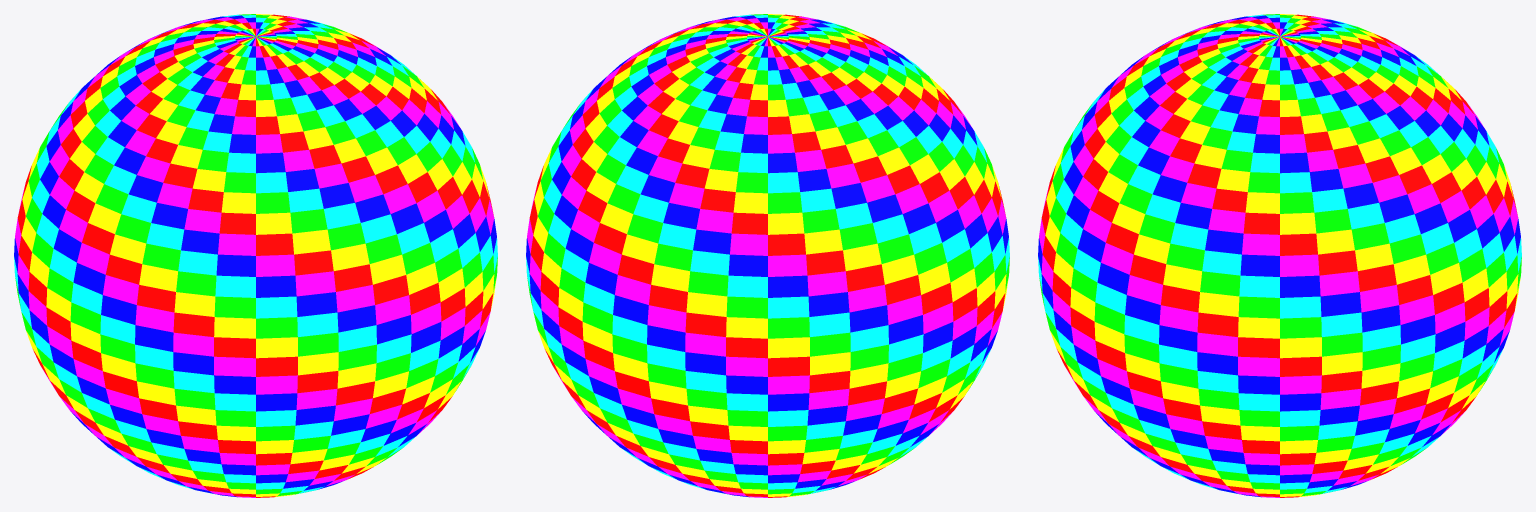
3 views of the same model, side by side, from view 1: azimuth 30°, elevation 25°; view 2: azimuth 150°, elevation 25°; view 3: azimuth 270°, elevation 25° (orthographic).
Visible parts, largest first — view 1: Sphere; view 2: Sphere; view 3: Sphere.
Boxes of the visible parts, x1,y1,x2,y2 form: Sphere: (14, 14, 497, 497); Sphere: (526, 14, 1009, 497); Sphere: (1038, 14, 1521, 497).
Size of the model in its own units: 200 by 200 by 200.
